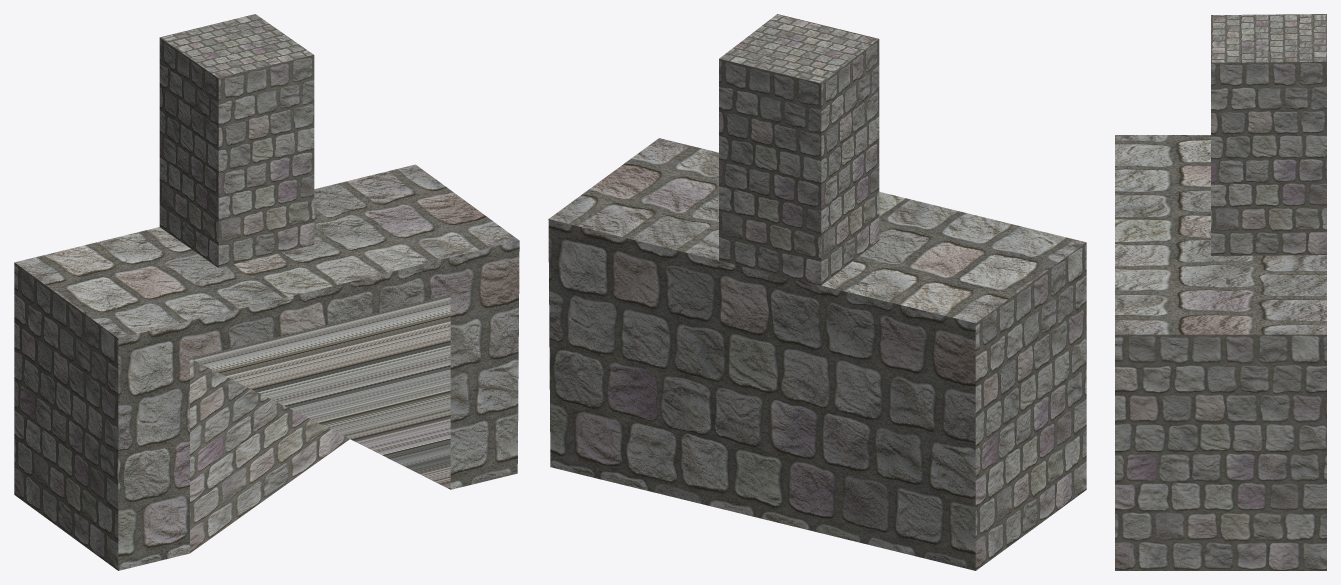
Rendered from lareira.FBX.
3 views of the same model, side by side, from view 1: azimuth 30°, elevation 25°; view 2: azimuth 150°, elevation 25°; view 3: azimuth 270°, elevation 25° (orthographic). The views are drawn at different scales.
Visible parts, largest first — view 1: Box001; view 2: Box001; view 3: Box001.
Boxes of the visible parts, x1,y1,x2,y2 form: Box001: (14,14,519,570); Box001: (548,14,1086,570); Box001: (1115,14,1326,570).
Size of the model in its own units: 111 by 112 by 49.87.
1 material, 1 textured.
